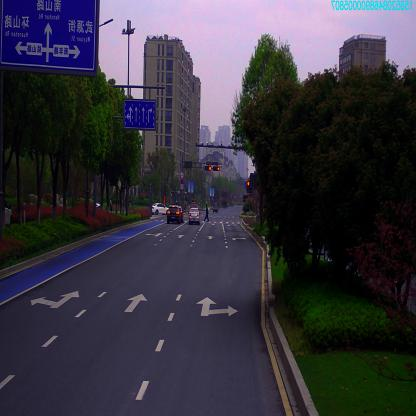traffic-light: (212, 165, 220, 172), (205, 165, 211, 170)
